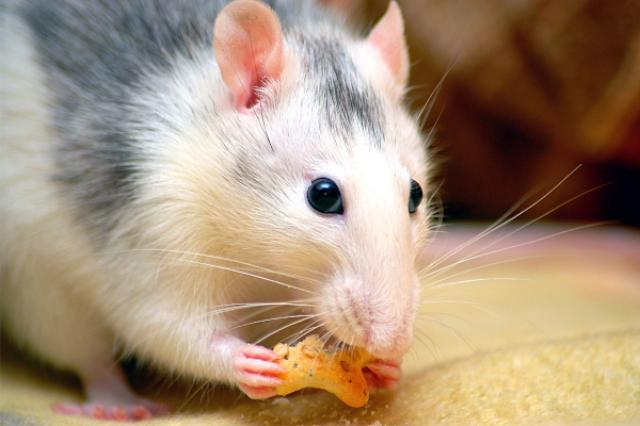rat: (35, 0, 469, 422)
